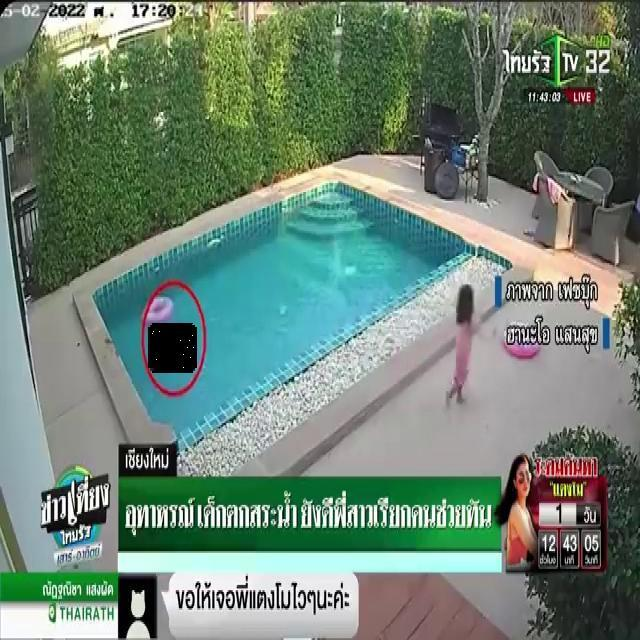Out of Water: (150, 325, 195, 371)
